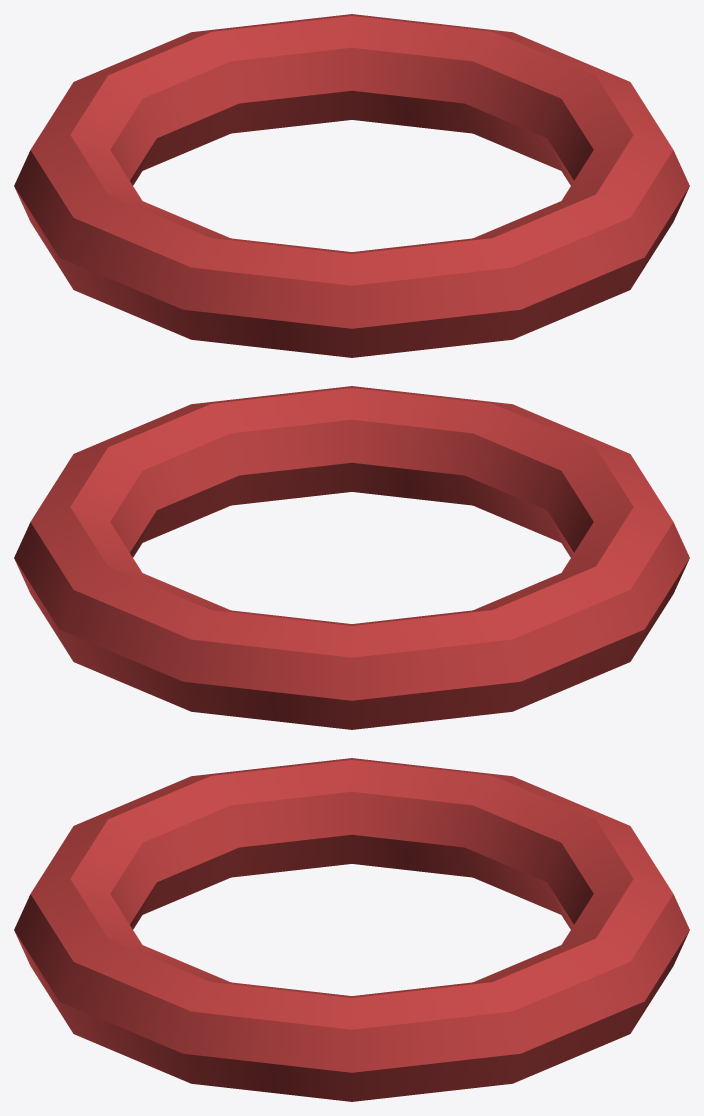
File: RedRing.fbx
The picture shows the model from 3 angles, top to bottom: view 1: azimuth 30°, elevation 25°; view 2: azimuth 150°, elevation 25°; view 3: azimuth 270°, elevation 25°; orthographic projection.
Visible parts, largest first — view 1: RedRing; view 2: RedRing; view 3: RedRing.
Part boxes in pixels (x1,y1,x2,y2): RedRing: [14, 14, 689, 357]; RedRing: [14, 386, 689, 729]; RedRing: [14, 758, 689, 1101].
Bounding box in the file's own units: 120 × 20 × 120.
